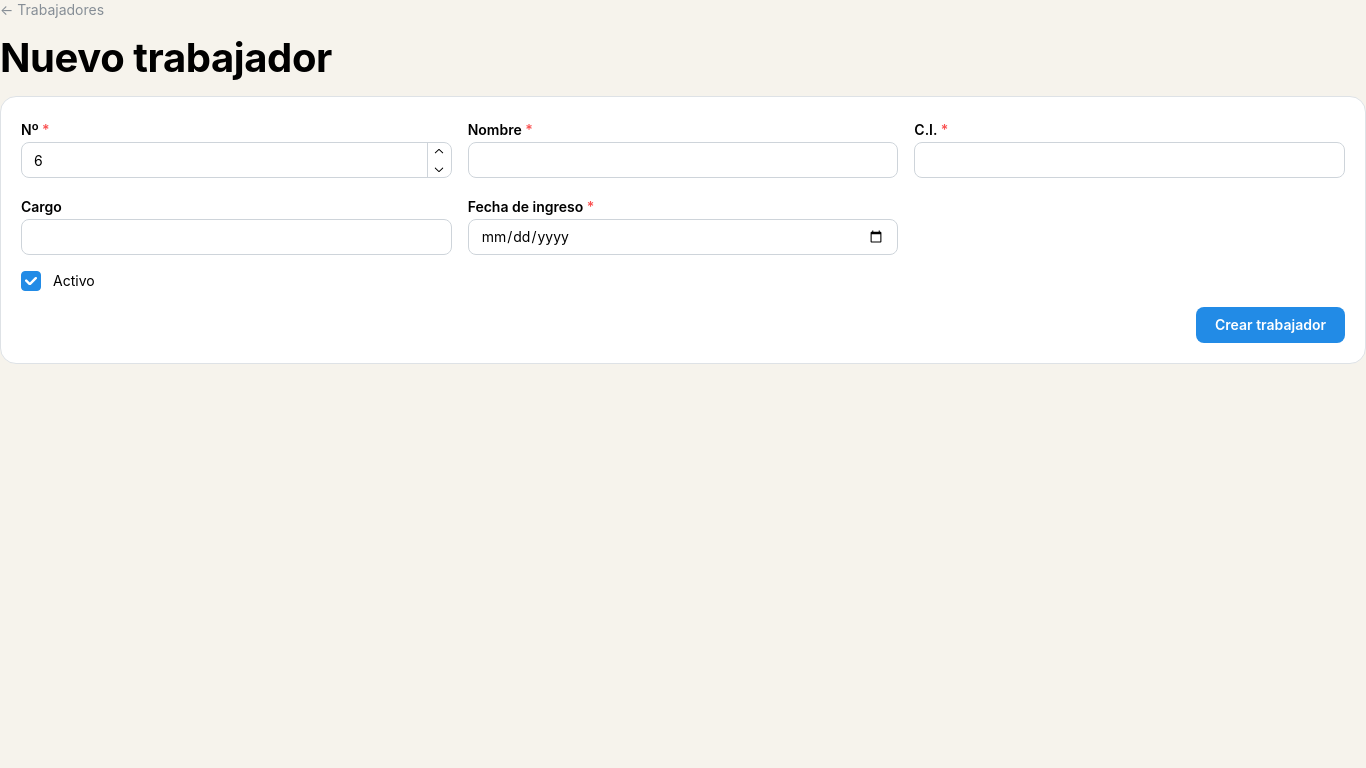
Test: TrabajadorDetallePage › creates a worker, then moves to its detail to add the first condition
The image size is (1366, 768).
Expected: the field labelled "Nº *" holds "6", [21,142,452,178]
Type "CARLOS" into the field labelled "Nombre *". click: (683, 160)
box: [468,142,898,178]
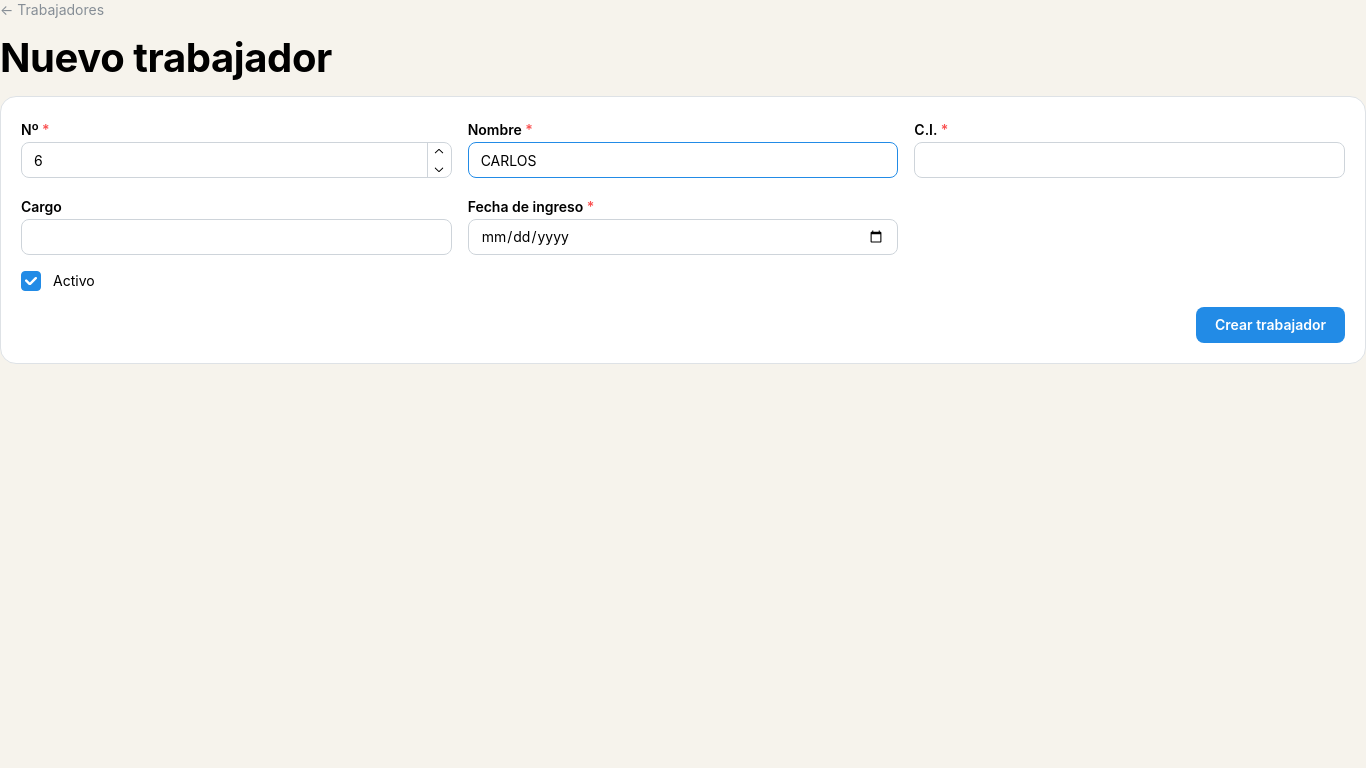
Type "2.222.222-2" into the field labelled "C.I. *". click: (1130, 160)
box: [914,142,1345,178]
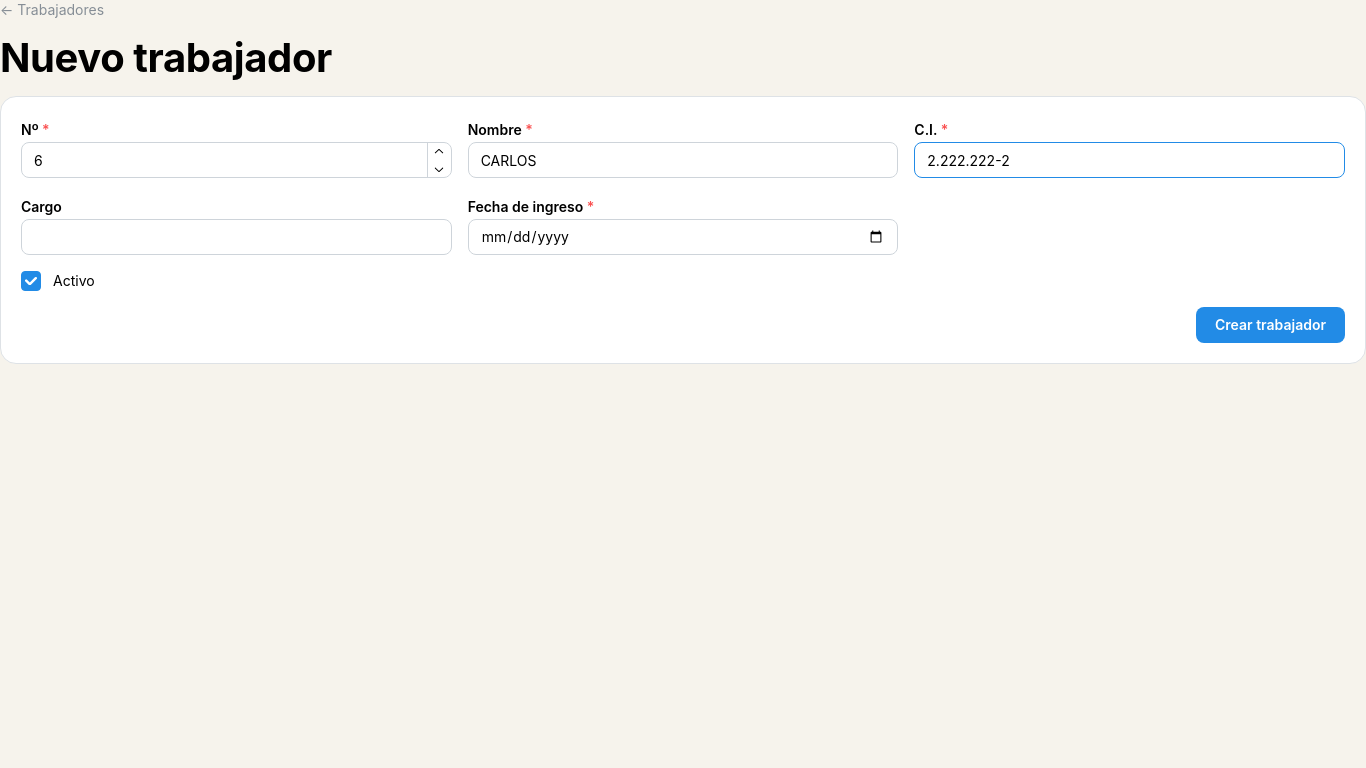
Type "2026-09-01" into the date field labelled "Fecha de ingreso *". click: (683, 237)
box: [468,219,898,255]
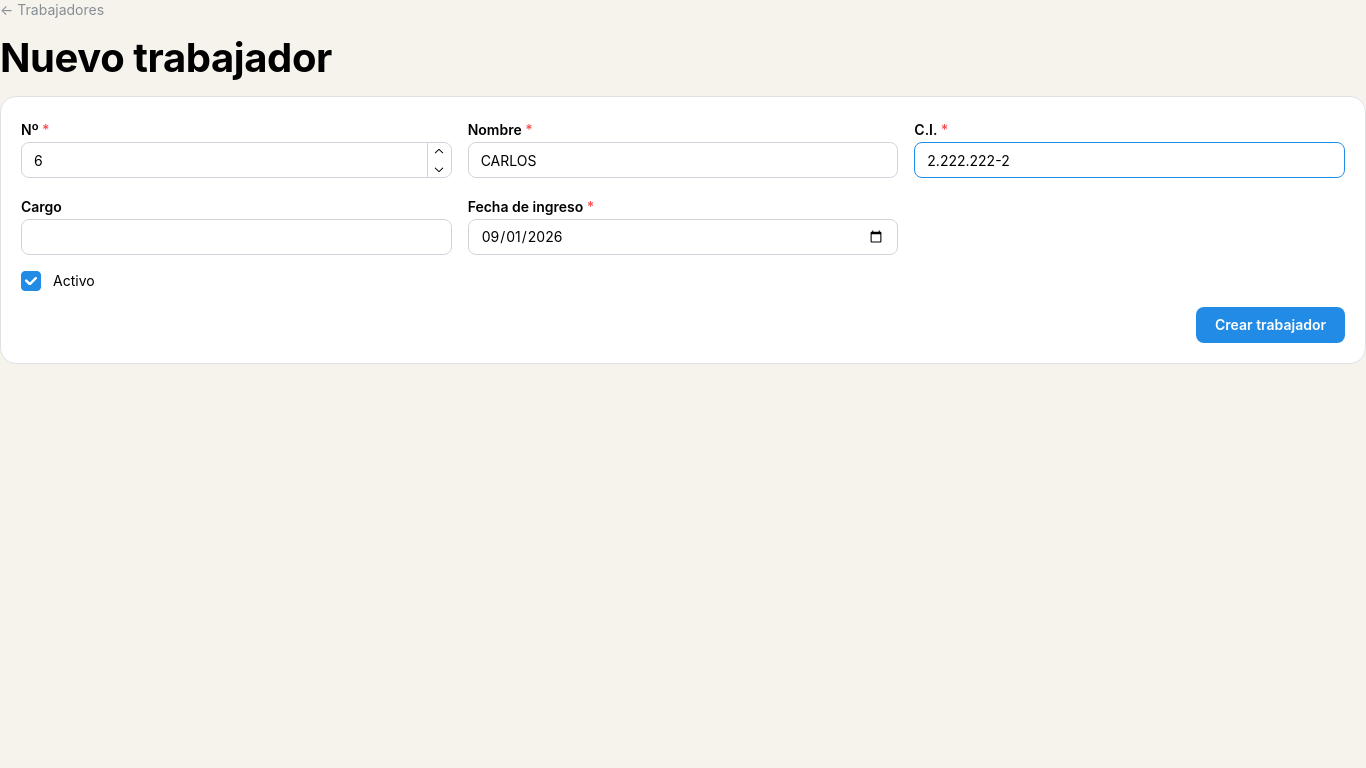
Click the button "Crear trabajador". click: (1270, 325)
box: [1196,307,1345,343]
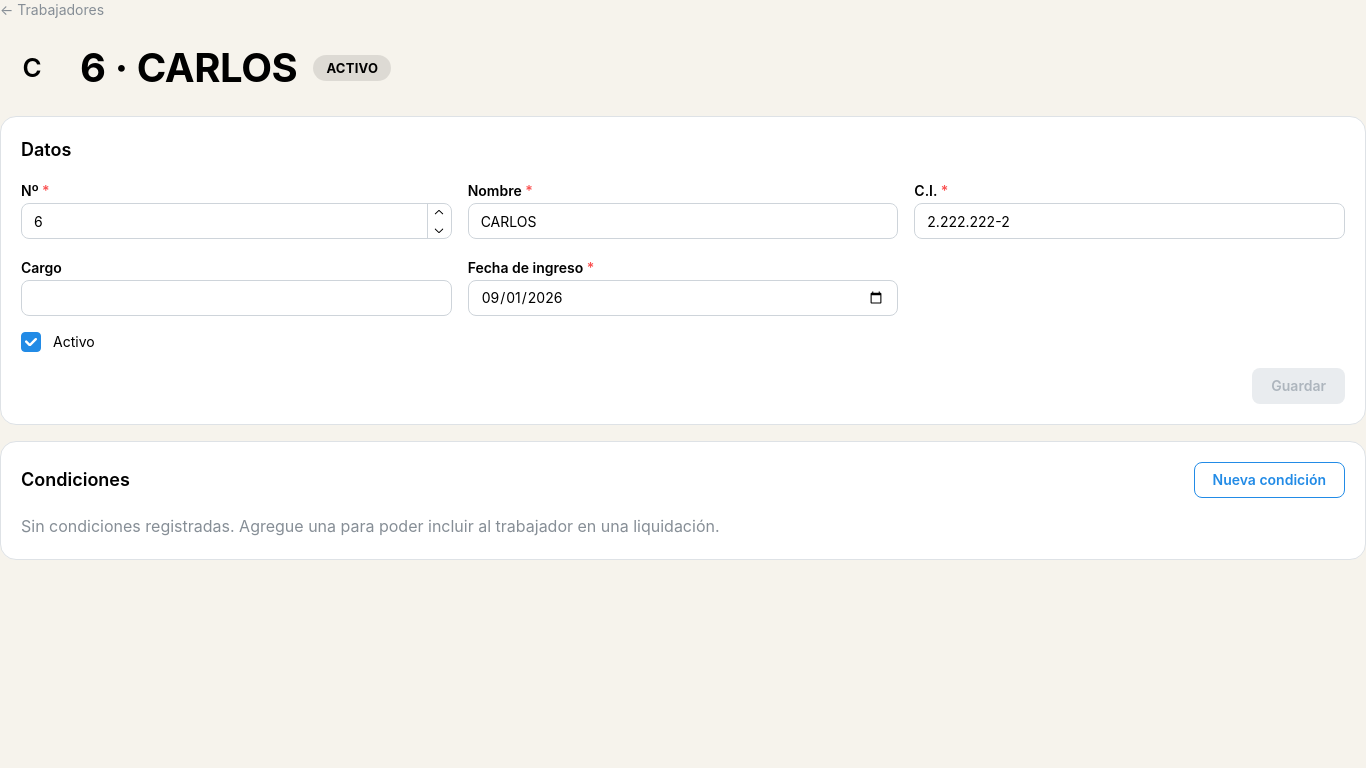
Now the heading "6 · CARLOS" is shown, box [80,46,297,90]
Now the text "Sin condiciones registradas" is shown, box [21,516,720,536]
Click the button "Nueva condición". click: (1269, 480)
box: [1194,462,1345,498]
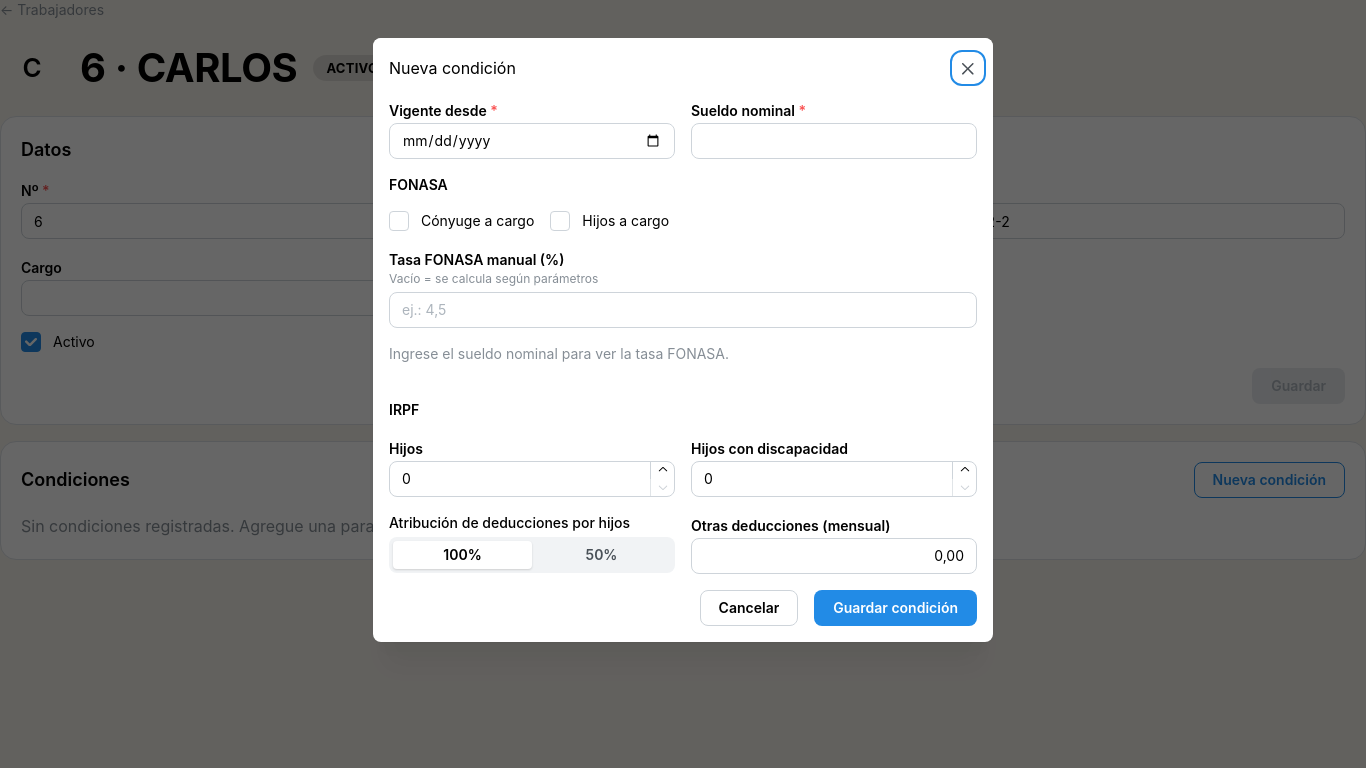
Expected: the field labelled "Sueldo nominal *" is empty, [691,123,977,159]
Click the button "Guardar condición". click: (896, 608)
box: [814,590,977,626]
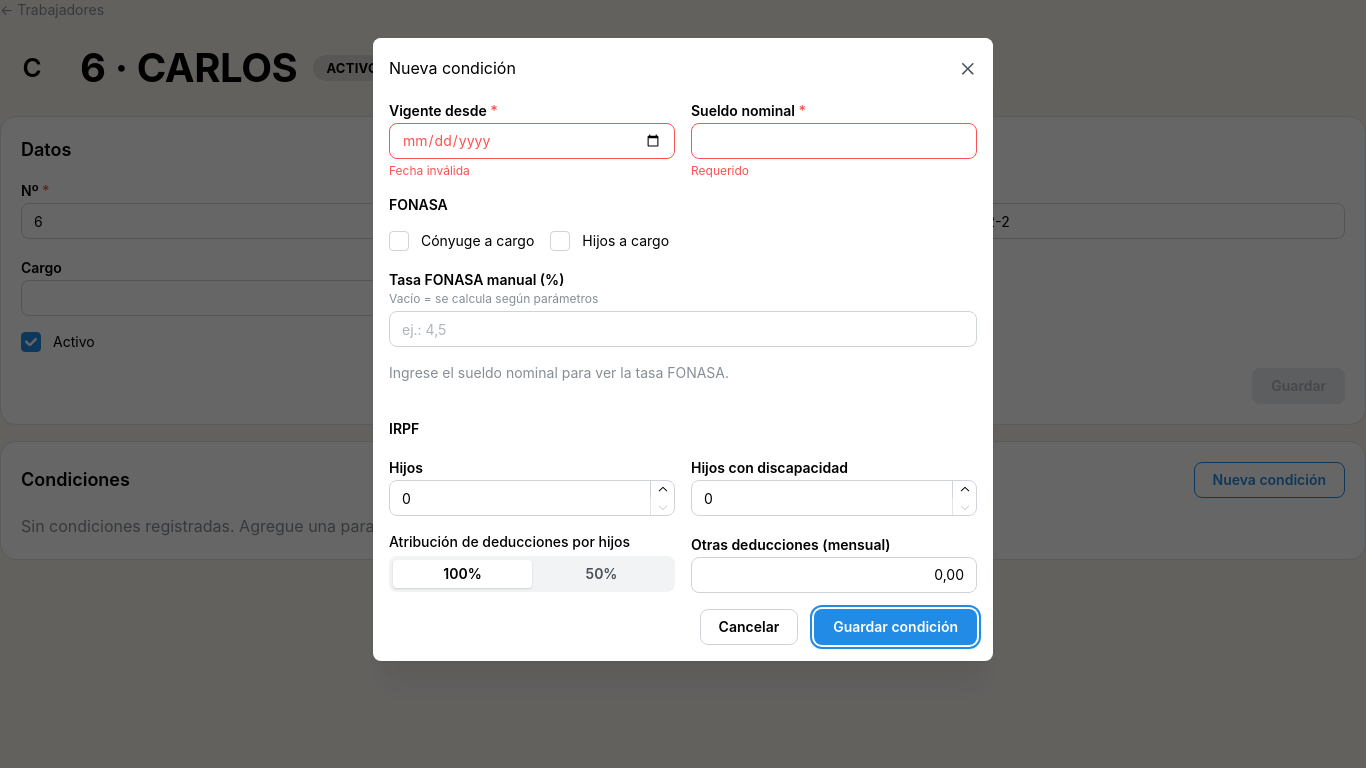
Now the text "Requerido" is shown, box [691,163,749,178]
